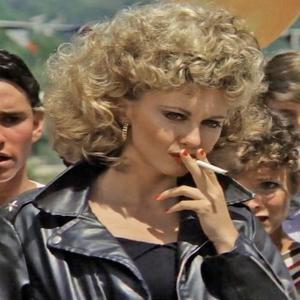cigarette: (188, 154, 231, 177)
